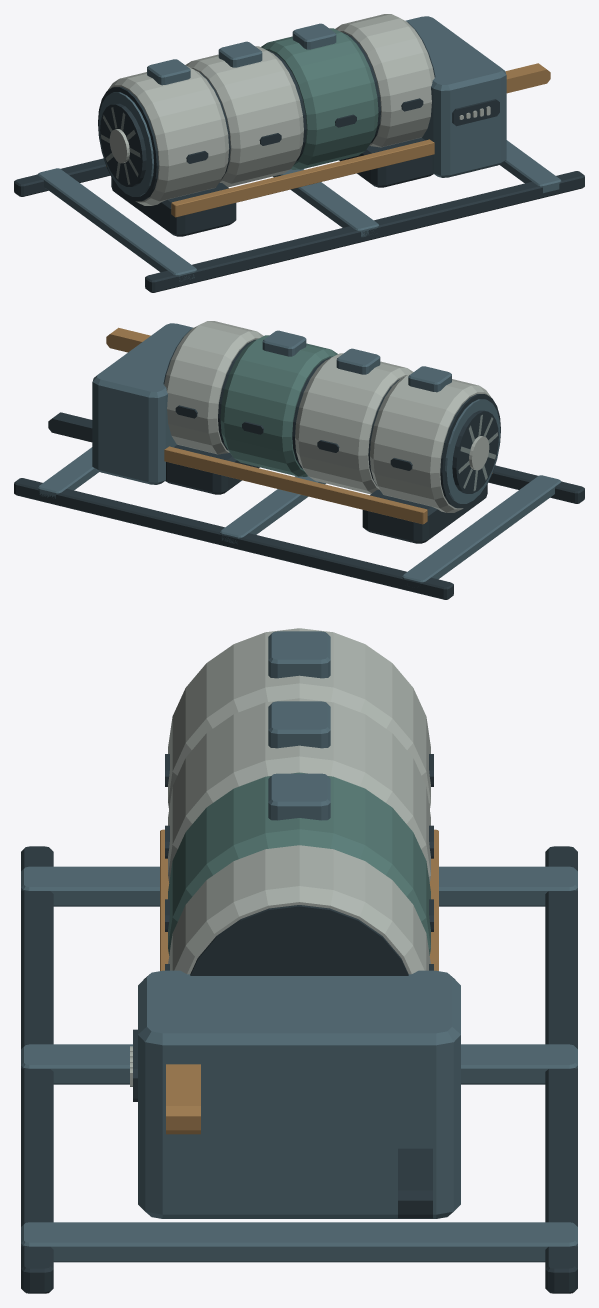
Rendered from UT-09_reserve_alternator.glb.
3 renders of one model, top to bottom at view 1: azimuth 30°, elevation 25°; view 2: azimuth 150°, elevation 25°; view 3: azimuth 270°, elevation 25°, orthographic. The views are drawn at different scales.
Parts seen in each view (by area): view 1: UT-09_reserve_alternator; view 2: UT-09_reserve_alternator; view 3: UT-09_reserve_alternator.
Boxes of the visible parts, x1,y1,x2,y2 form: UT-09_reserve_alternator: (14, 14, 584, 292); UT-09_reserve_alternator: (14, 321, 584, 599); UT-09_reserve_alternator: (21, 628, 577, 1293).
Bounding box in the file's own units: 13 × 4.42 × 7.2.
